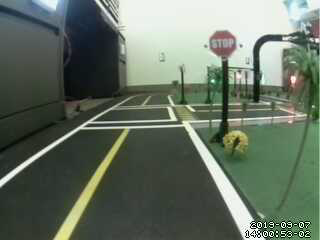Stop_Sign: (202, 25, 241, 63)
